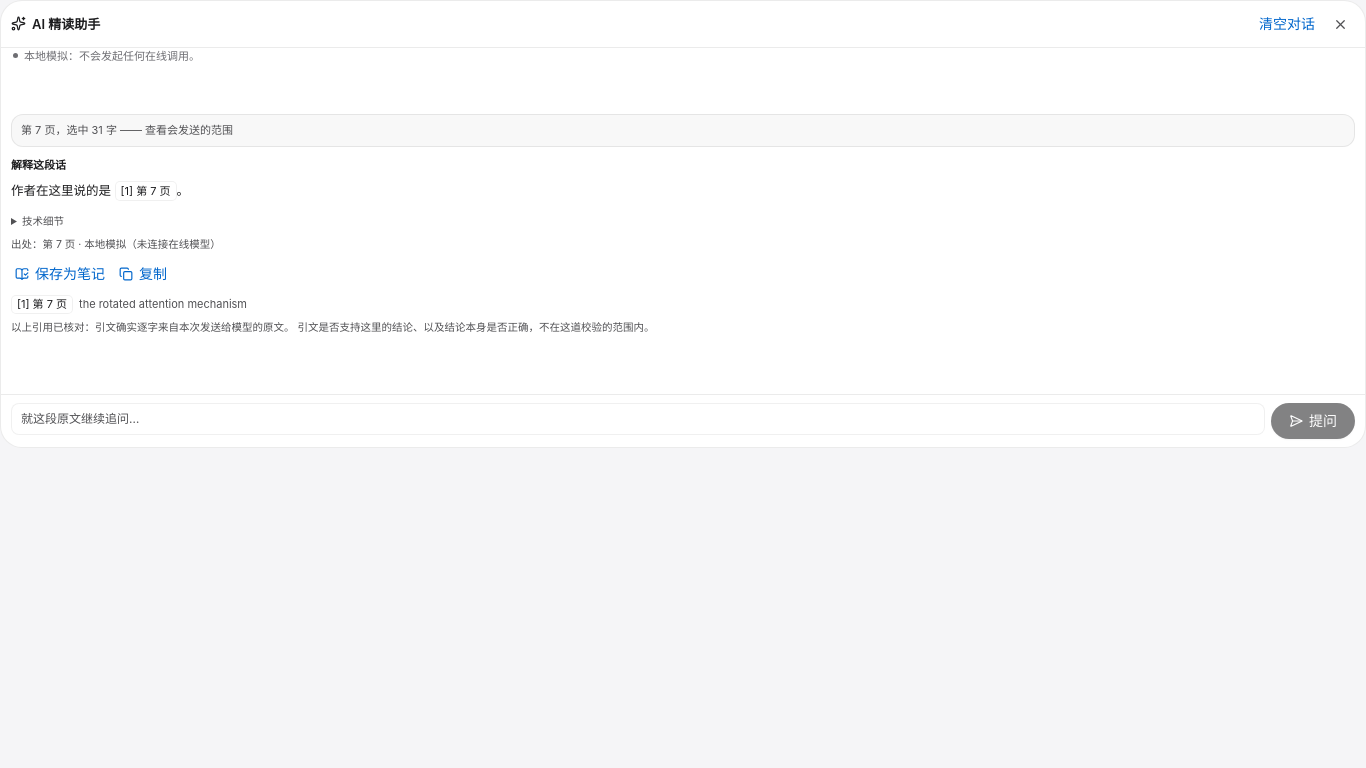
Test: AiPanel › the range that will be sent › is disclosed only when the reader asks to see it
Expected: the text "选中的原文" is not shown
Click the button "第 7 页，选中 31 字 —— 查看会发送的范围": (86, 130) x1=12 y1=115 x2=1354 y2=146
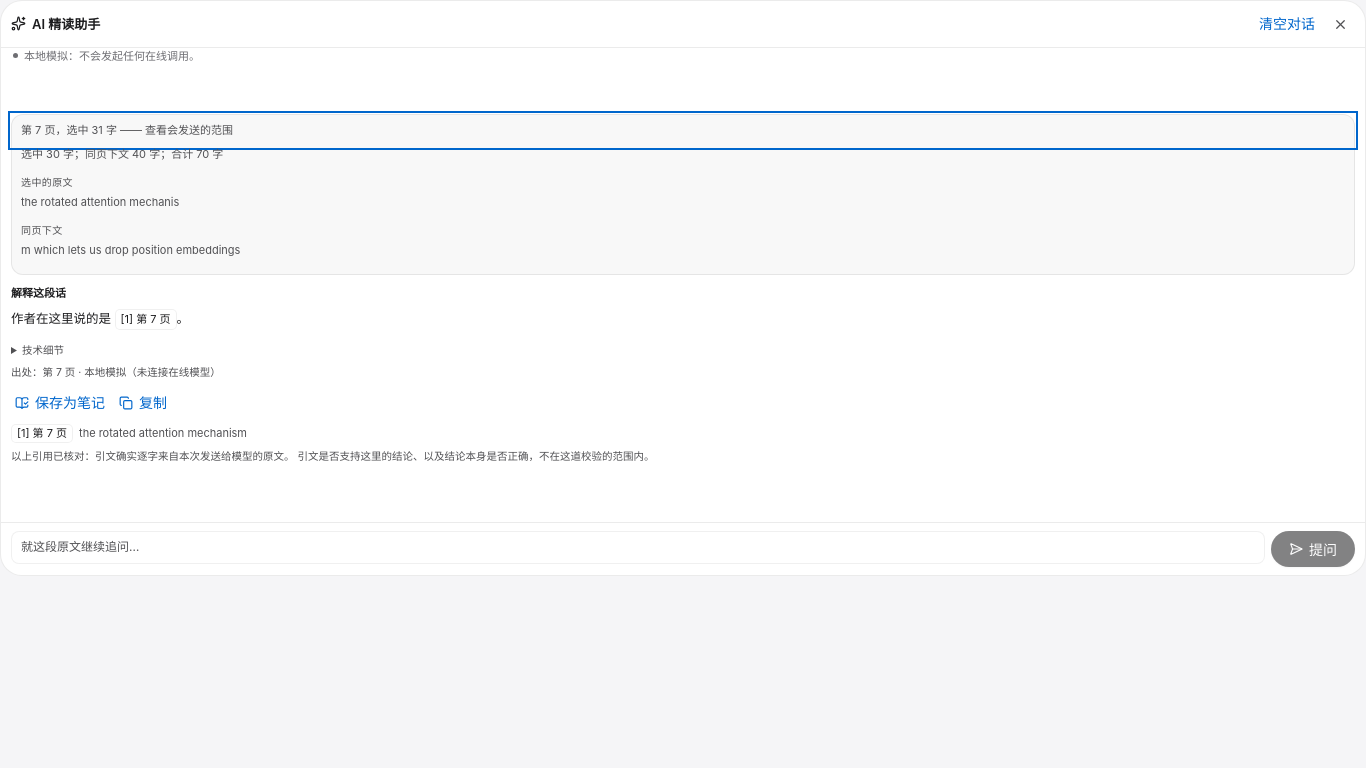
Expected: the text "选中的原文" is shown, x1=21 y1=176 x2=73 y2=188
Expected: the text "同页下文" is shown, x1=21 y1=224 x2=63 y2=236
Expected: the text "选中 30 字；同页下文 40 字；合计 70 字" is shown, x1=21 y1=147 x2=223 y2=161
